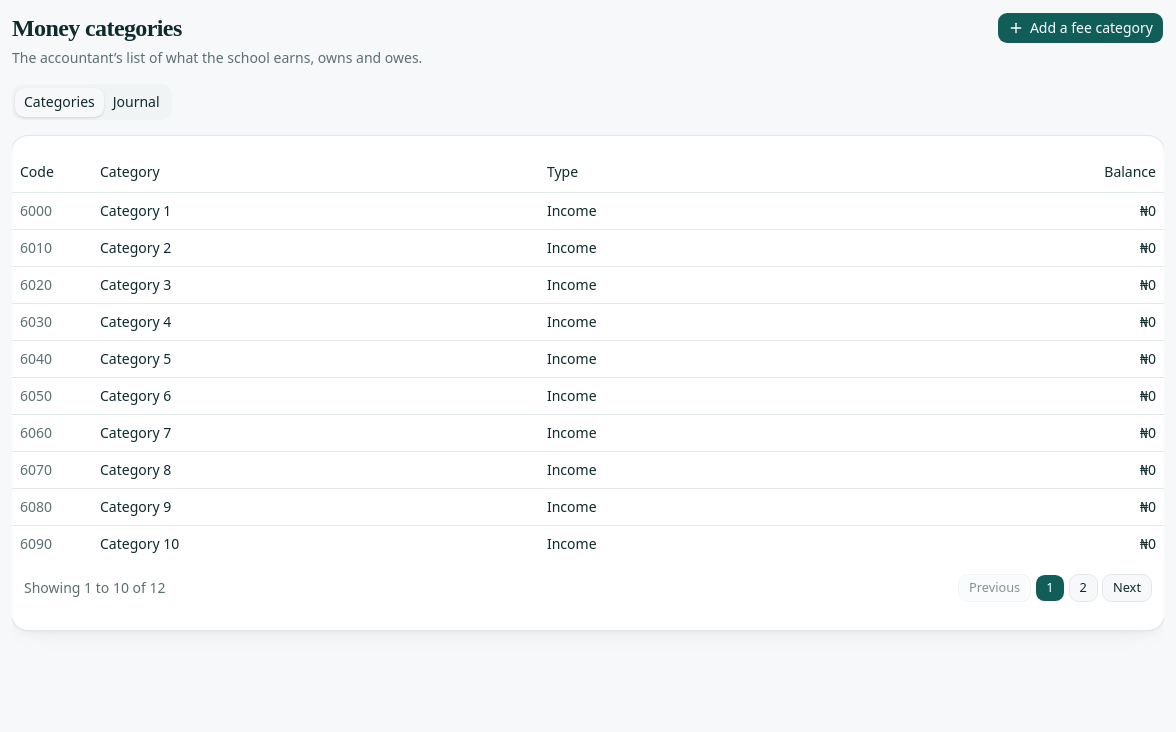
Test: MoneyCategoriesPage chart › shows 10 rows a page and pages the rest
Expected: the text "Category 1" is shown, left=100, top=200, right=171, bottom=220
Expected: the text "Category 10" is shown, left=100, top=534, right=179, bottom=552
Click the button named "Page 2". click: (1083, 588)
box: left=1069, top=574, right=1098, bottom=602
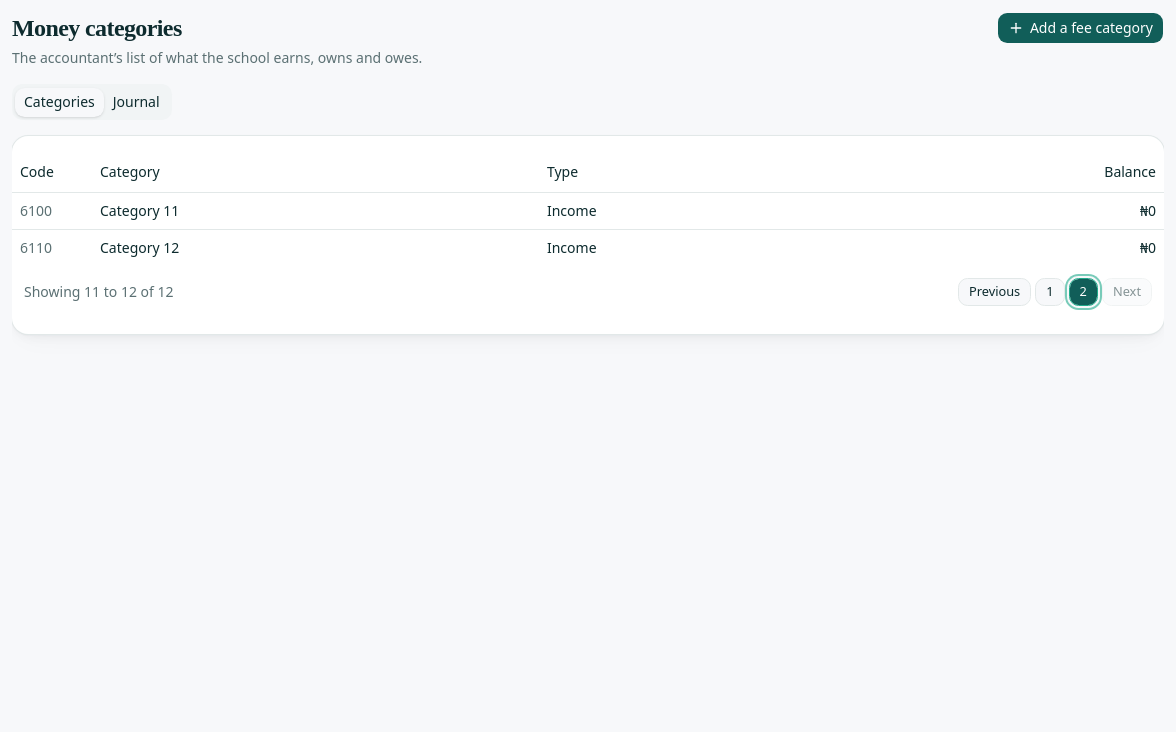
Expected: the text "Category 11" is shown, left=100, top=200, right=179, bottom=220
